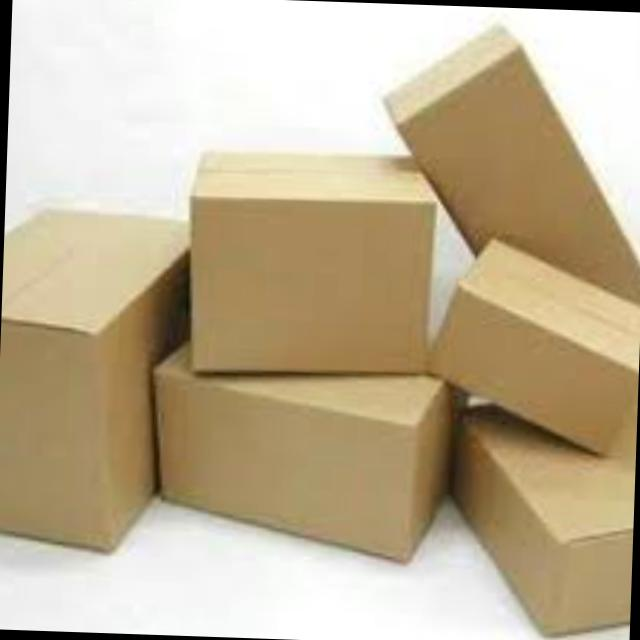cardboard paper: (0, 24, 640, 627), (379, 21, 640, 298), (149, 339, 445, 552), (0, 207, 181, 542), (185, 150, 430, 366), (427, 235, 640, 445), (447, 401, 635, 627), (448, 379, 498, 454)
